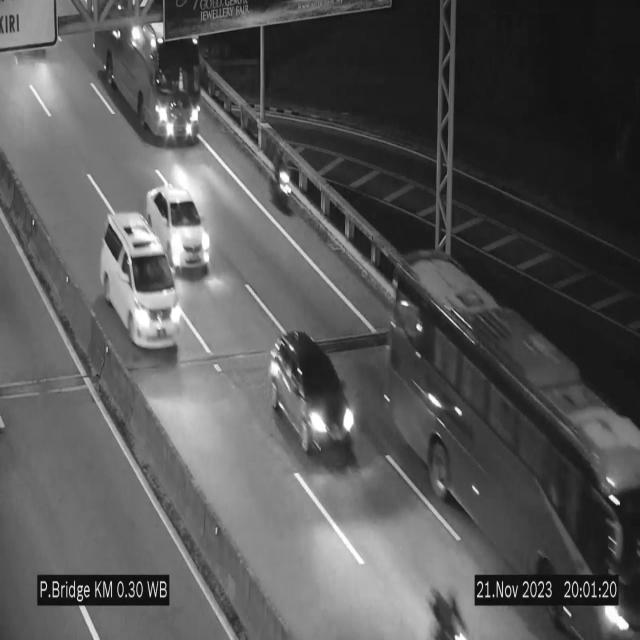Bus: (383, 256, 640, 640), (90, 30, 206, 150)
Car: (269, 331, 357, 457), (100, 214, 180, 350), (146, 177, 216, 285)
Motorcycle: (268, 130, 299, 216)
